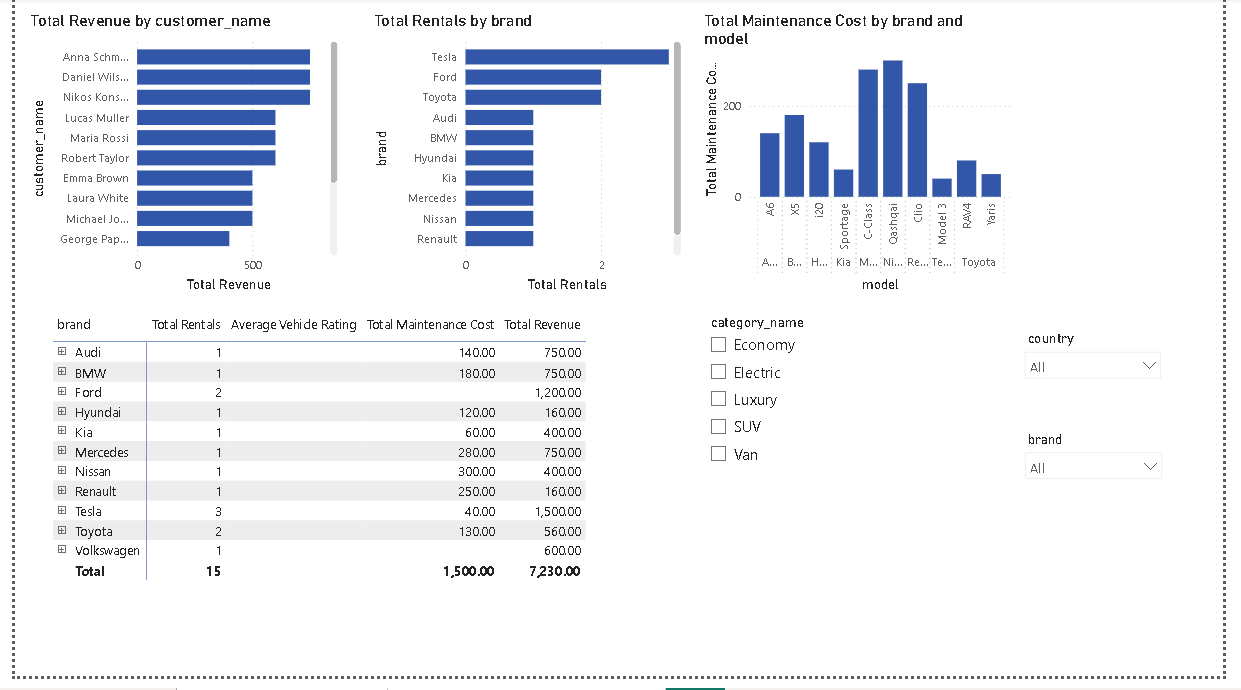

This screenshot's page, from the dashboard's own definition file:
{"tool":"powerbi","page":{"name":"Customer & Fleet Analysis","canvas":[1280,720],"ordinal":1},"visuals":[{"type":"clusteredBarChart","fields":{"Category":["CUSTOMER.customer_name"],"Y":["PAYMENT.Total Revenue"]},"box":[11.1,14.3,335.6,302.2],"z":0},{"type":"clusteredBarChart","fields":{"Category":["VEHICLE.brand","VEHICLE.model"],"Y":["PAYMENT.Total Rentals"]},"box":[375.4,14.3,335.6,302.2],"z":1000},{"type":"clusteredColumnChart","fields":{"Category":["VEHICLE.brand","VEHICLE.model"],"Y":["PAYMENT.Total Maintenance Cost"]},"box":[725.3,14.3,335.6,302.2],"z":2000},{"type":"pivotTable","fields":{"Rows":["VEHICLE.brand","VEHICLE.model"],"Values":["PAYMENT.Total Rentals","PAYMENT.Average Vehicle Rating","PAYMENT.Total Maintenance Cost","PAYMENT.Total Revenue"]},"box":[35,330.8,588.5,326.1],"z":2001},{"type":"slicer","fields":{"Values":["CATEGORY.category_name"]},"box":[725.3,330.8,335.6,194.1],"z":2002},{"type":"slicer","fields":{"Values":["VEHICLE.brand"]},"box":[1060.9,454.9,165.4,70],"z":2003},{"type":"slicer","fields":{"Values":["CUSTOMER.country"]},"box":[1060.9,348.3,163.8,79.5],"z":2004}]}

Visuals, with their boxes in screenshot pixels (x1, y1, x2, y2), scaled from the page's 1280x720 canvas onto the 1241x690 screenshot:
clusteredBarChart - CUSTOMER.customer_name x PAYMENT.Total Revenue: [11,14,336,303]
clusteredBarChart - VEHICLE.brand x VEHICLE.model: [364,14,689,303]
clusteredColumnChart - VEHICLE.brand x VEHICLE.model: [703,14,1029,303]
pivotTable - VEHICLE.brand x VEHICLE.model: [34,317,605,630]
slicer - CATEGORY.category_name: [703,317,1029,503]
slicer - VEHICLE.brand: [1029,436,1189,503]
slicer - CUSTOMER.country: [1029,334,1187,410]
